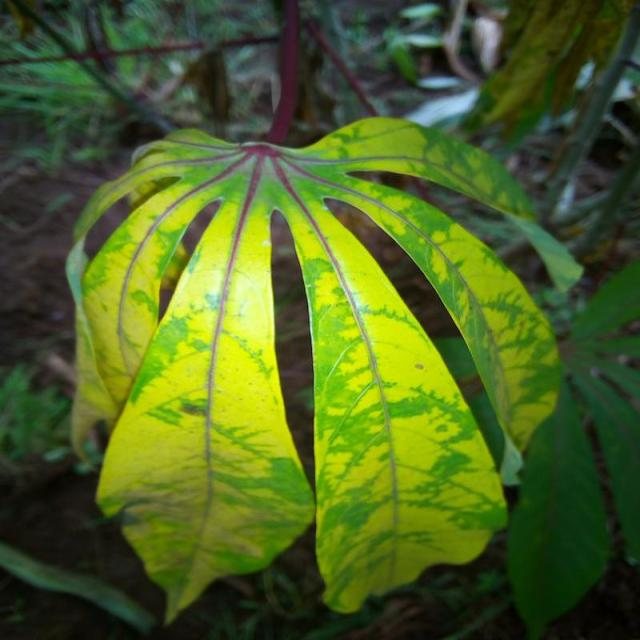cassava leaf: (65, 114, 579, 625), (93, 164, 315, 625), (278, 173, 510, 614)
